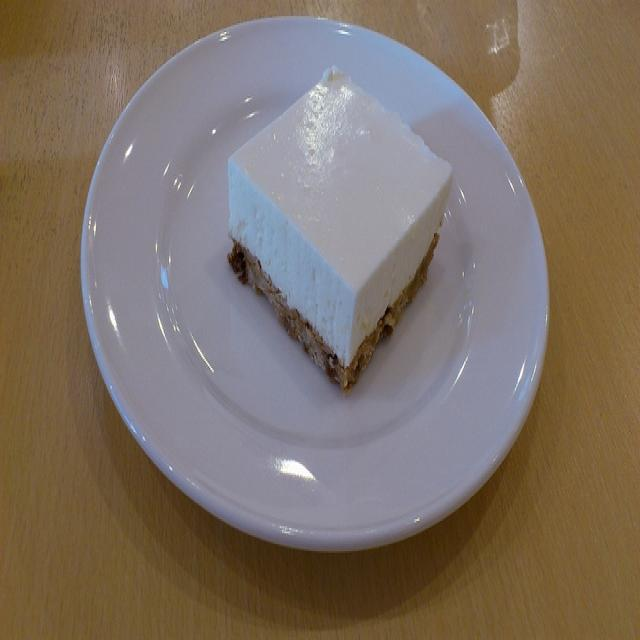Rare cheese cake: (200, 34, 474, 393)
